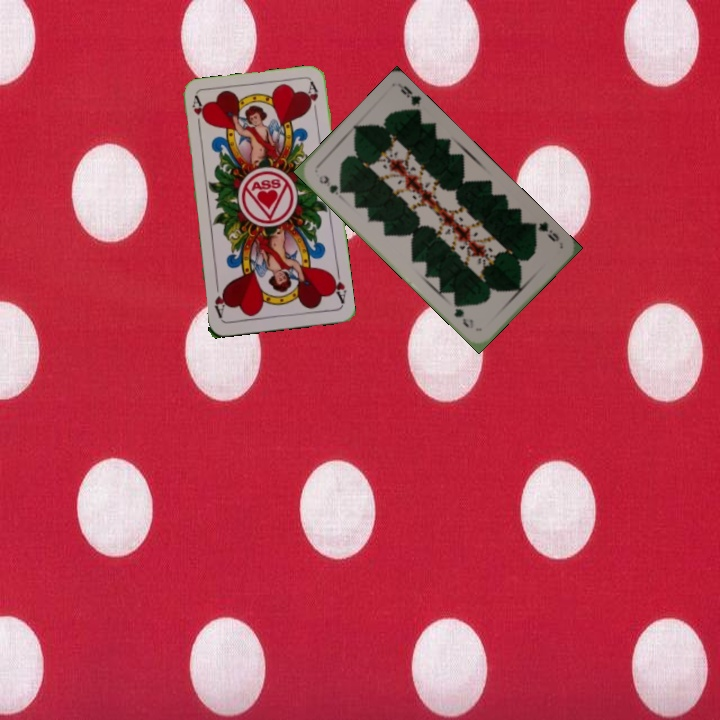G9: (527, 217, 562, 244), (315, 171, 347, 198)
HA: (327, 266, 349, 306), (188, 93, 207, 134)
